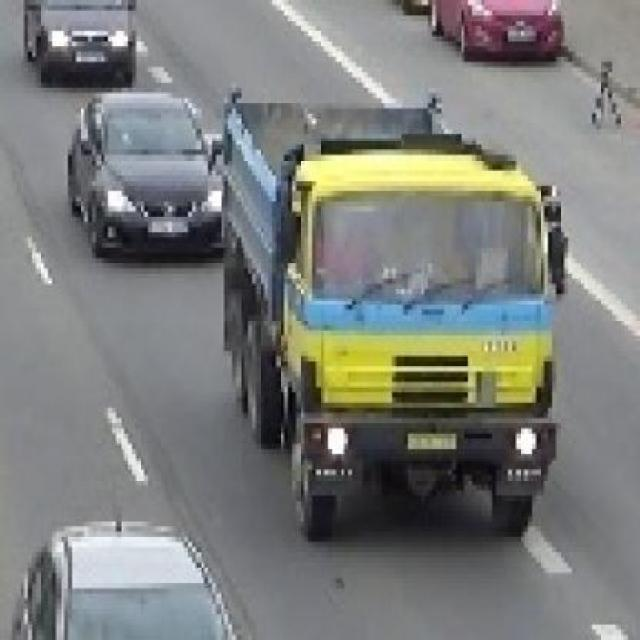truck: (217, 89, 565, 533)
